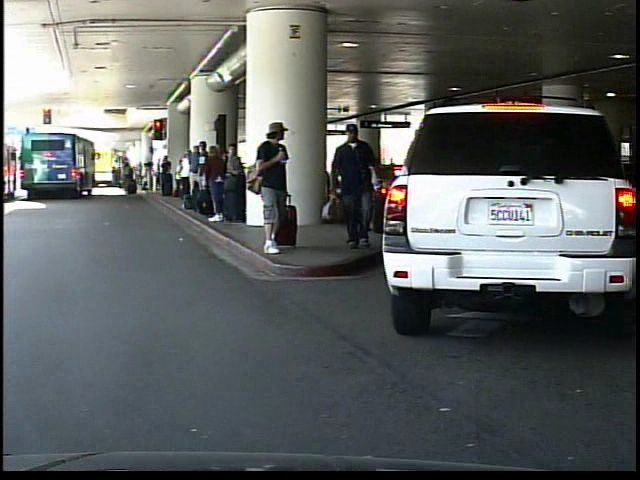person: (332, 123, 389, 252), (253, 120, 302, 254)
